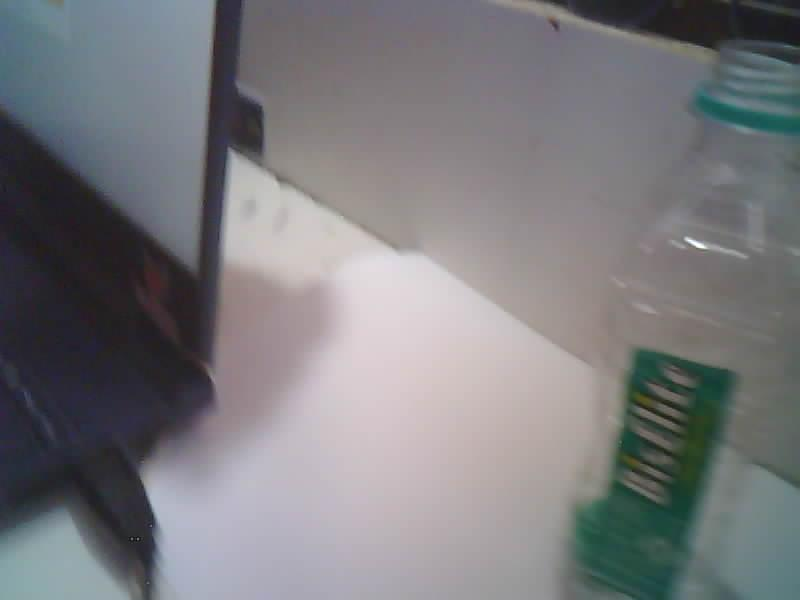non-biodegradable: (570, 39, 799, 599)
